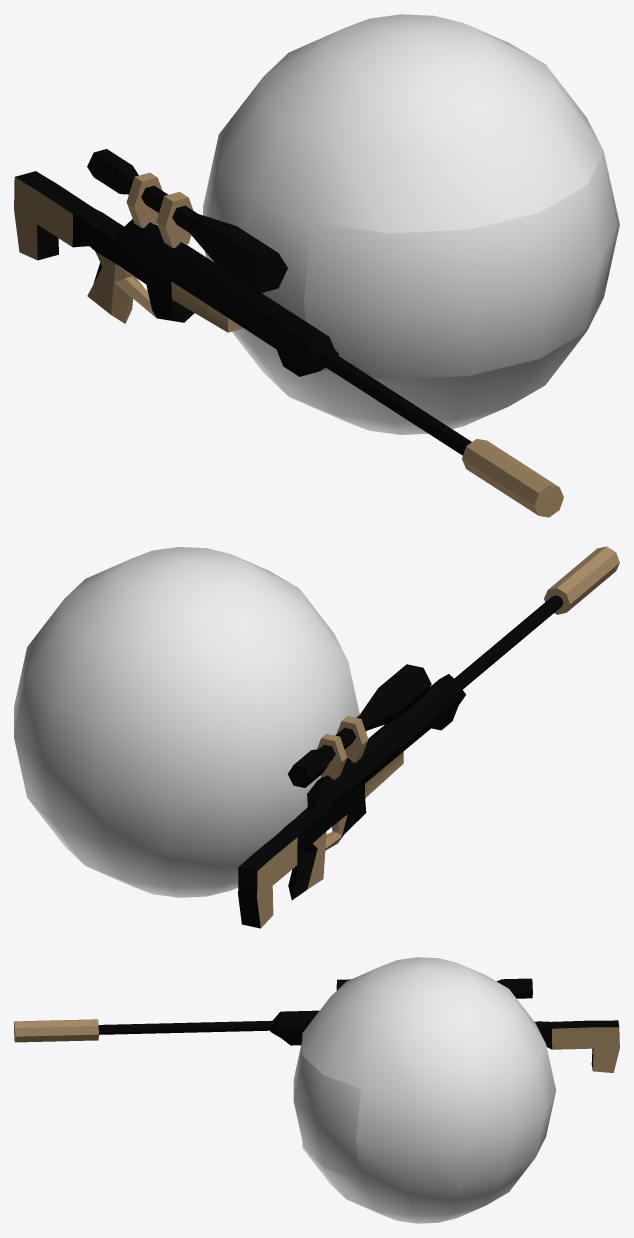
The model's file is sniper2.fbx.
The picture shows the model from 3 angles, top to bottom: view 1: azimuth 30°, elevation 25°; view 2: azimuth 150°, elevation 25°; view 3: azimuth 270°, elevation 25°; orthographic projection. The views are drawn at different scales.
Parts seen in each view (by area): view 1: countryball.002, countryball.001, gun; view 2: countryball.002, gun; view 3: countryball.002, gun, countryball.001.
Boxes of the visible parts, <box> form: countryball.002: <box>203,14,619,434</box>; countryball.001: <box>304,155,617,379</box>; gun: <box>14,149,563,517</box>; countryball.002: <box>14,547,359,897</box>; gun: <box>238,546,619,928</box>; countryball.002: <box>302,957,556,1223</box>; gun: <box>14,978,619,1072</box>; countryball.001: <box>293,1041,360,1181</box>.
Bounding box in the file's own units: 234 × 202 × 459.
